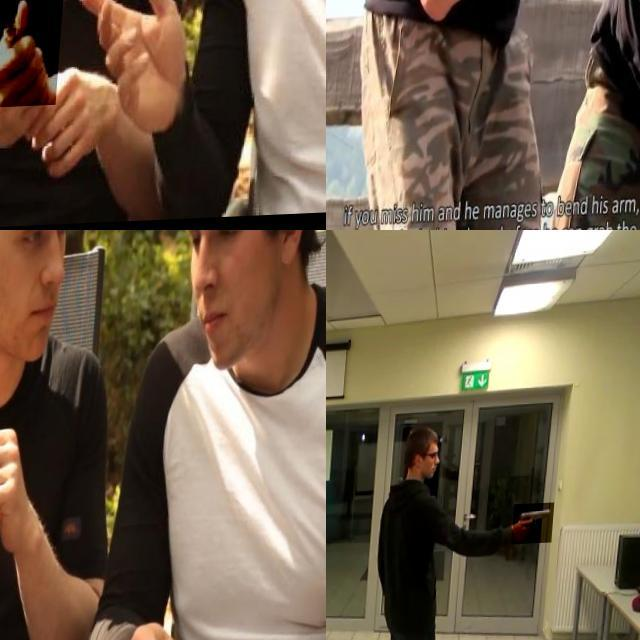-: (0, 0, 74, 109), (555, 0, 623, 74), (0, 549, 38, 640)
gun-knife-thesis - v11 Yolov5 augmented: (517, 508, 559, 548)
